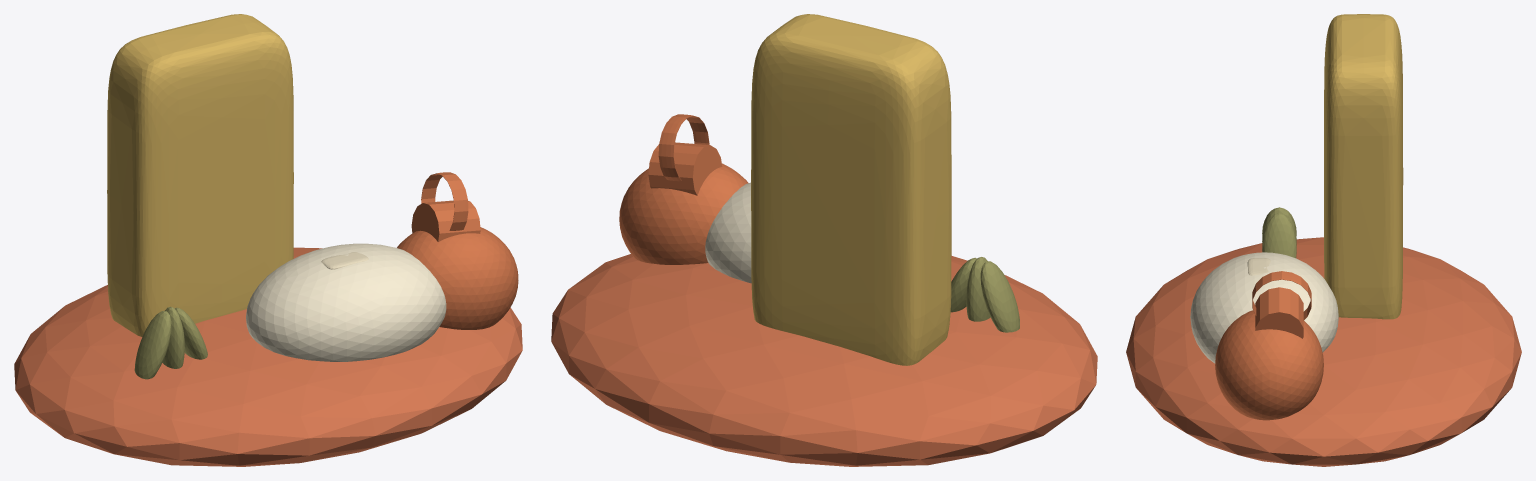
Rendered from dispute_item.glb.
3 views of the same model, side by side, from view 1: azimuth 30°, elevation 25°; view 2: azimuth 150°, elevation 25°; view 3: azimuth 270°, elevation 25° (orthographic). The views are drawn at different scales.
Visible parts, largest first — view 1: Mound, Boundary_Stone, Sack, Jar_Body, Jar_Neck, Leaf_0, Jar_Rim, Leaf_1, Leaf_2; view 2: Mound, Boundary_Stone, Jar_Body, Sack, Jar_Neck, Leaf_0, Jar_Rim, Leaf_1, Leaf_2; view 3: Mound, Boundary_Stone, Jar_Body, Sack, Jar_Neck, Leaf_2, Jar_Rim.
Boxes of the visible parts, box(x1,y1,x2,y2) form: Mound: box(14, 247, 522, 466); Boundary_Stone: box(107, 14, 293, 336); Sack: box(246, 243, 446, 361); Jar_Body: box(397, 227, 518, 329); Jar_Neck: box(411, 200, 480, 241); Leaf_0: box(134, 311, 171, 379); Jar_Rim: box(421, 172, 468, 230); Leaf_1: box(162, 306, 184, 368); Leaf_2: box(175, 307, 207, 359); Mound: box(551, 254, 1097, 466); Boundary_Stone: box(751, 14, 951, 365); Jar_Body: box(619, 163, 748, 264); Sack: box(705, 182, 751, 283); Jar_Neck: box(648, 142, 722, 195); Leaf_0: box(980, 261, 1019, 332); Jar_Rim: box(658, 114, 709, 181); Leaf_1: box(966, 257, 990, 321); Leaf_2: box(950, 257, 976, 312); Mound: box(1126, 237, 1521, 466); Boundary_Stone: box(1324, 14, 1403, 319); Jar_Body: box(1215, 310, 1323, 420); Sack: box(1190, 252, 1338, 363); Jar_Neck: box(1255, 287, 1303, 338); Leaf_2: box(1262, 213, 1296, 258); Jar_Rim: box(1252, 271, 1311, 320).
Bounding box in the file's own units: 0.5479 × 0.4192 × 0.4384.
